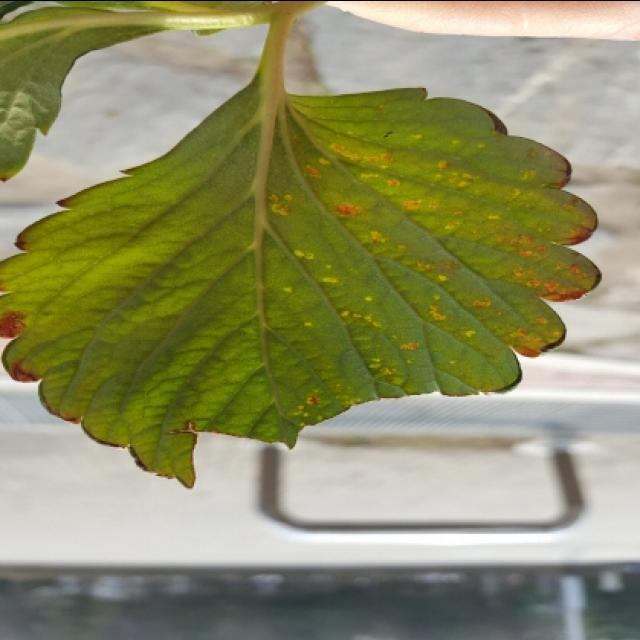Angular Leafspot: (260, 98, 606, 431)
